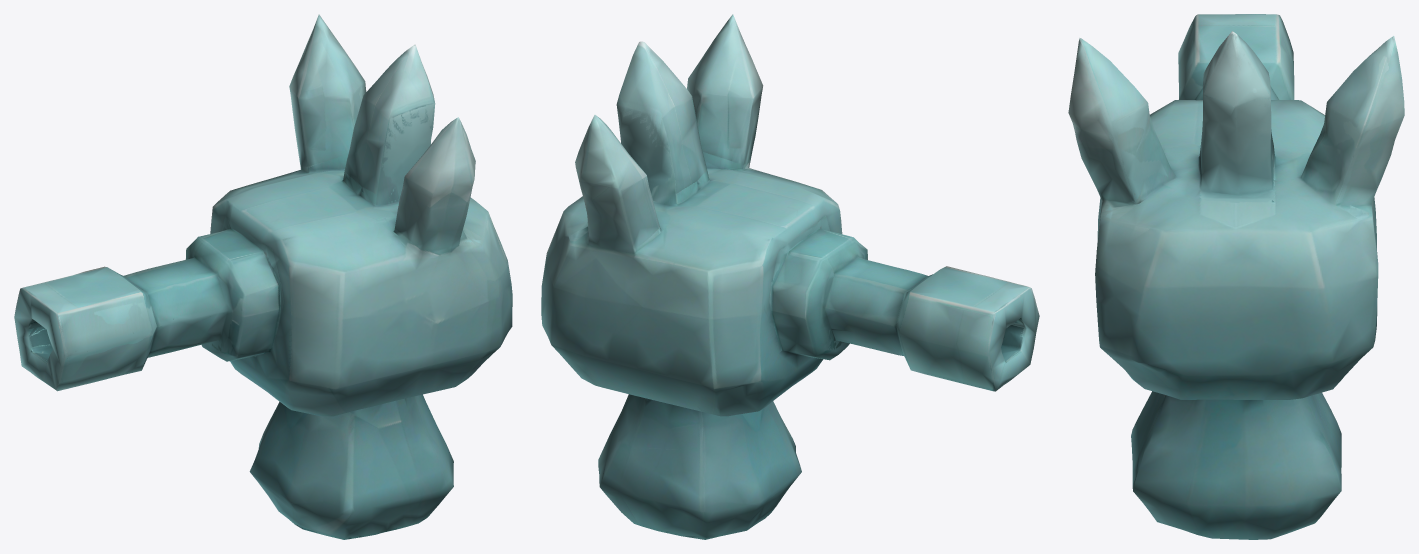
Rendered from Frost_Blaster_Turret_1214000030_texture.fbx.
3 renders of one model, left to right at view 1: azimuth 30°, elevation 25°; view 2: azimuth 150°, elevation 25°; view 3: azimuth 270°, elevation 25°, orthographic. The views are drawn at different scales.
Visible parts, largest first — view 1: Mesh_0; view 2: Mesh_0; view 3: Mesh_0.
Part boxes in pixels (x1=…): Mesh_0: x1=14, y1=14, x2=512, y2=539; Mesh_0: x1=541, y1=14, x2=1039, y2=539; Mesh_0: x1=1068, y1=14, x2=1404, y2=539.
Bounding box in the file's own units: 201 × 200 × 120.
1 material, 1 textured.
